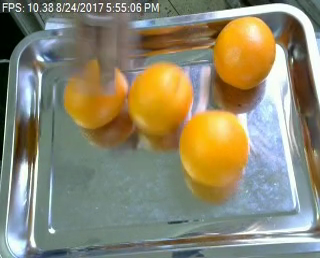Orange: (179, 109, 248, 185), (128, 61, 193, 134), (212, 16, 276, 89)
